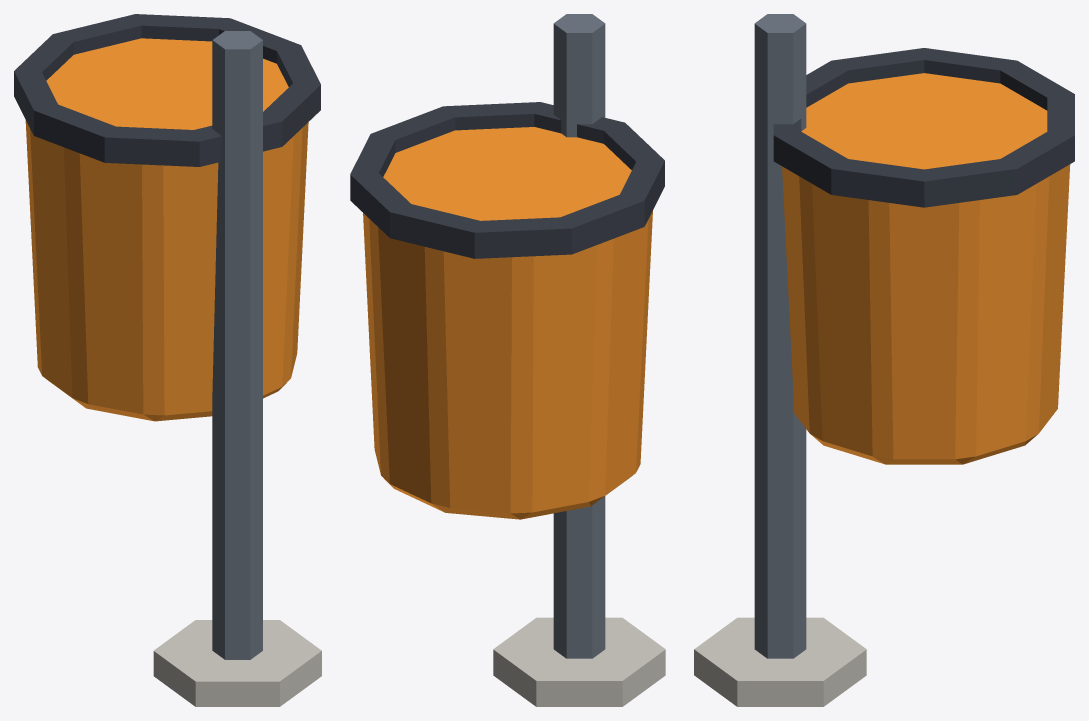
The model's file is lixeira.glb.
The picture shows the model from 3 angles, left to right: view 1: azimuth 30°, elevation 25°; view 2: azimuth 150°, elevation 25°; view 3: azimuth 270°, elevation 25°; orthographic projection. The views are drawn at different scales.
Parts seen in each view (by area): view 1: corpo; view 2: corpo; view 3: corpo.
Part boxes in pixels (x1=…): corpo: x1=14, y1=14, x2=321, y2=706; corpo: x1=350, y1=14, x2=665, y2=706; corpo: x1=694, y1=14, x2=1074, y2=706.
Bounding box in the file's own units: 0.22 × 0.5 × 0.2646.
